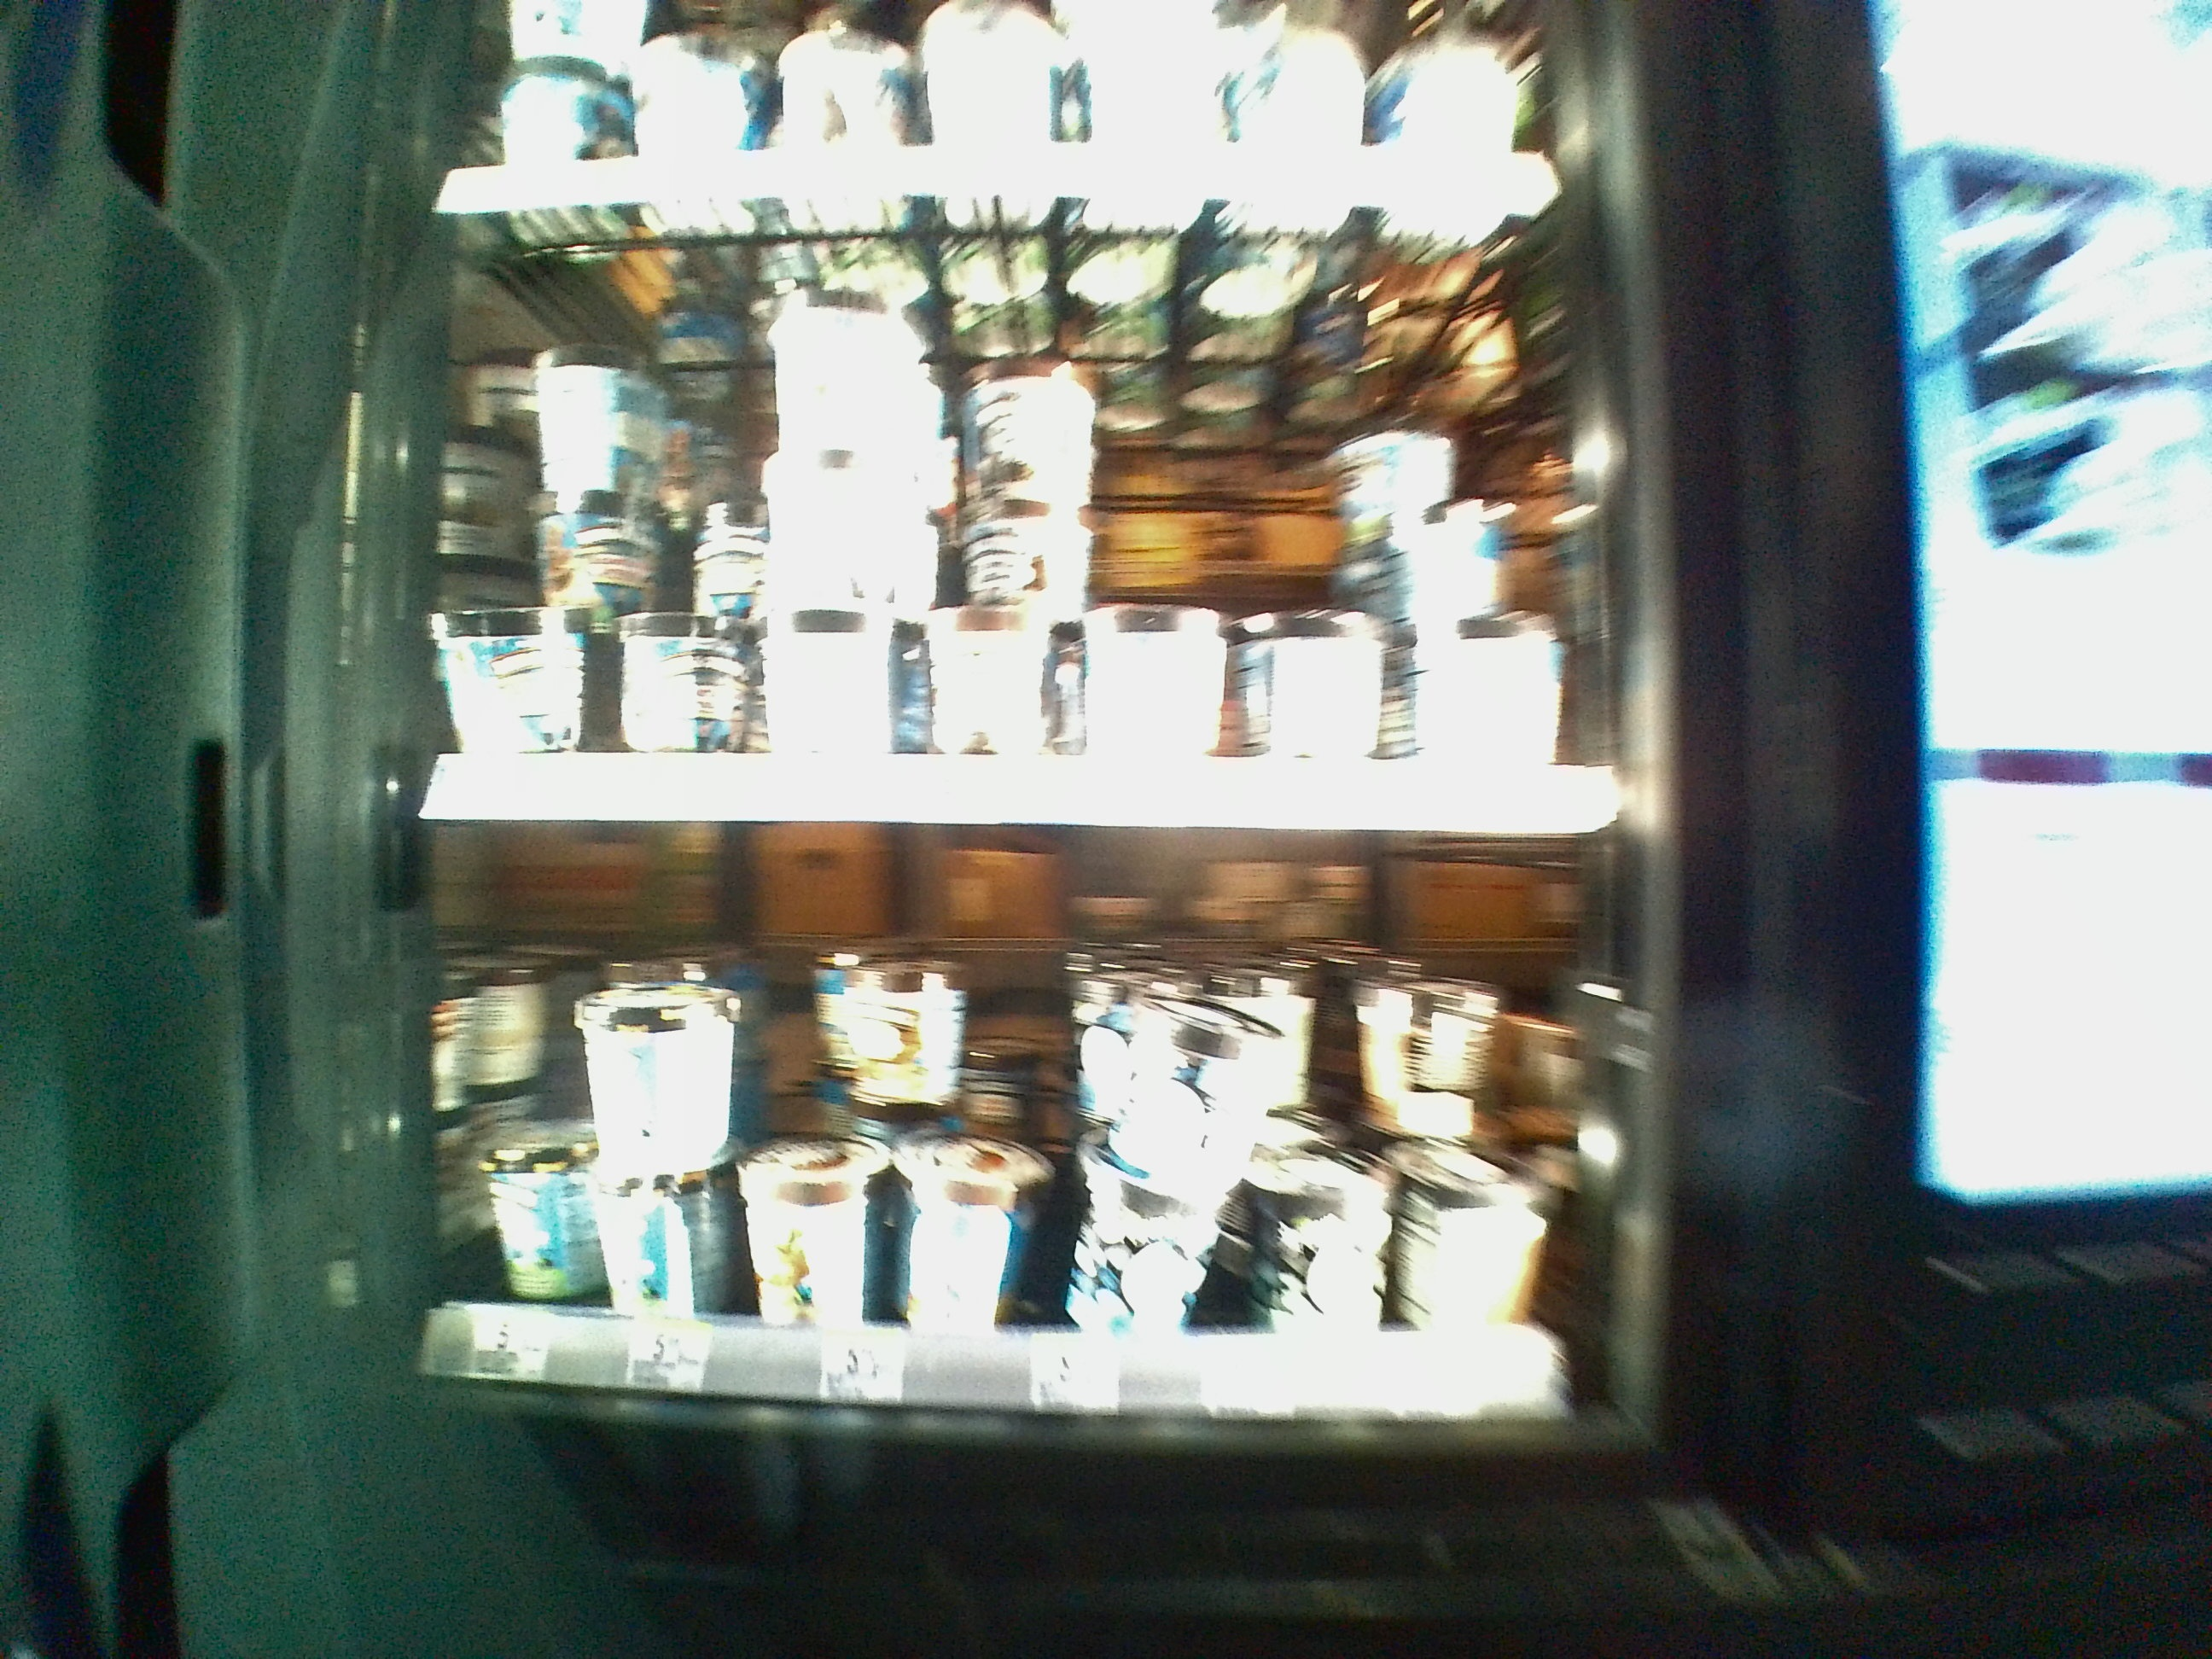shelf: (409, 204, 1606, 824), (388, 857, 1622, 1412)
